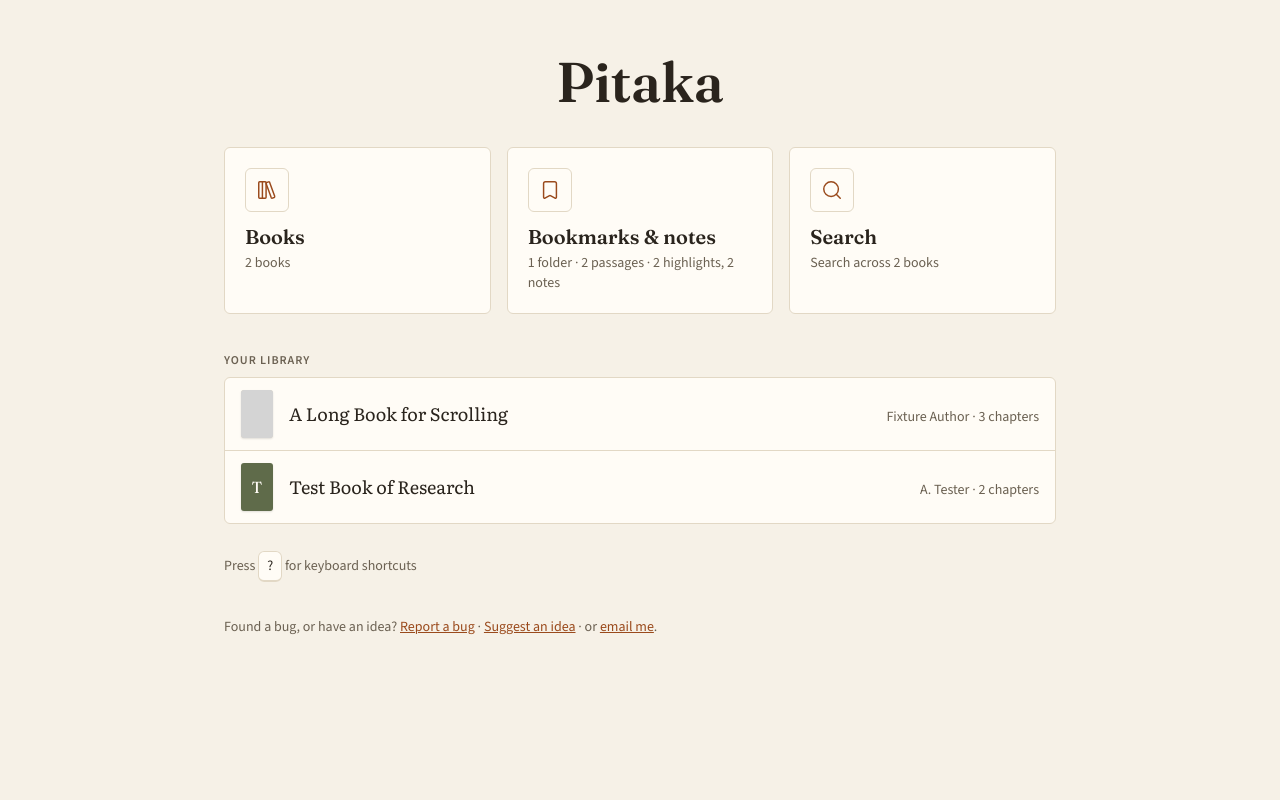
Test: highlights in the reader › recolours a highlight from its popover
Click the button "Books 2 books": (267, 190) [224, 147, 491, 314]
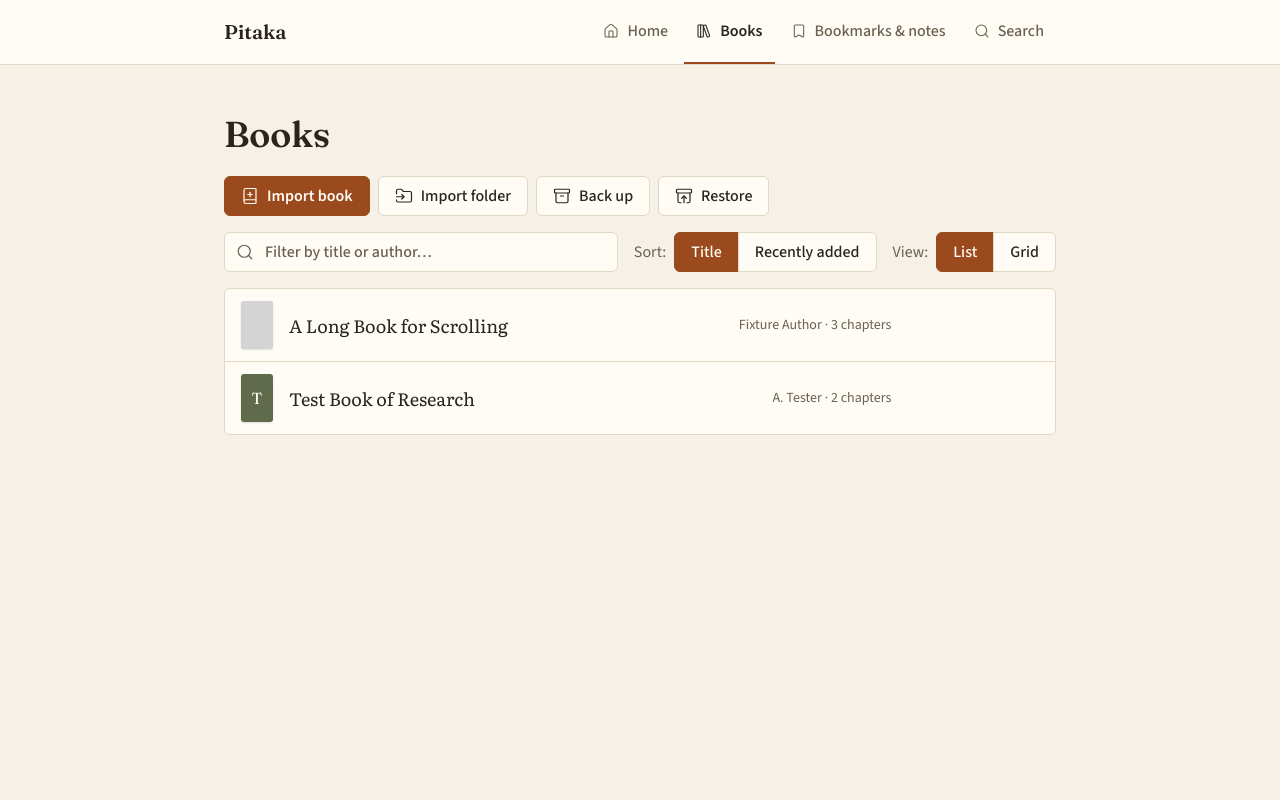
Now the heading "Books" is shown, box [224, 112, 330, 156]
Click the text "A Long Book for Scrolling": (399, 325) [289, 312, 508, 339]
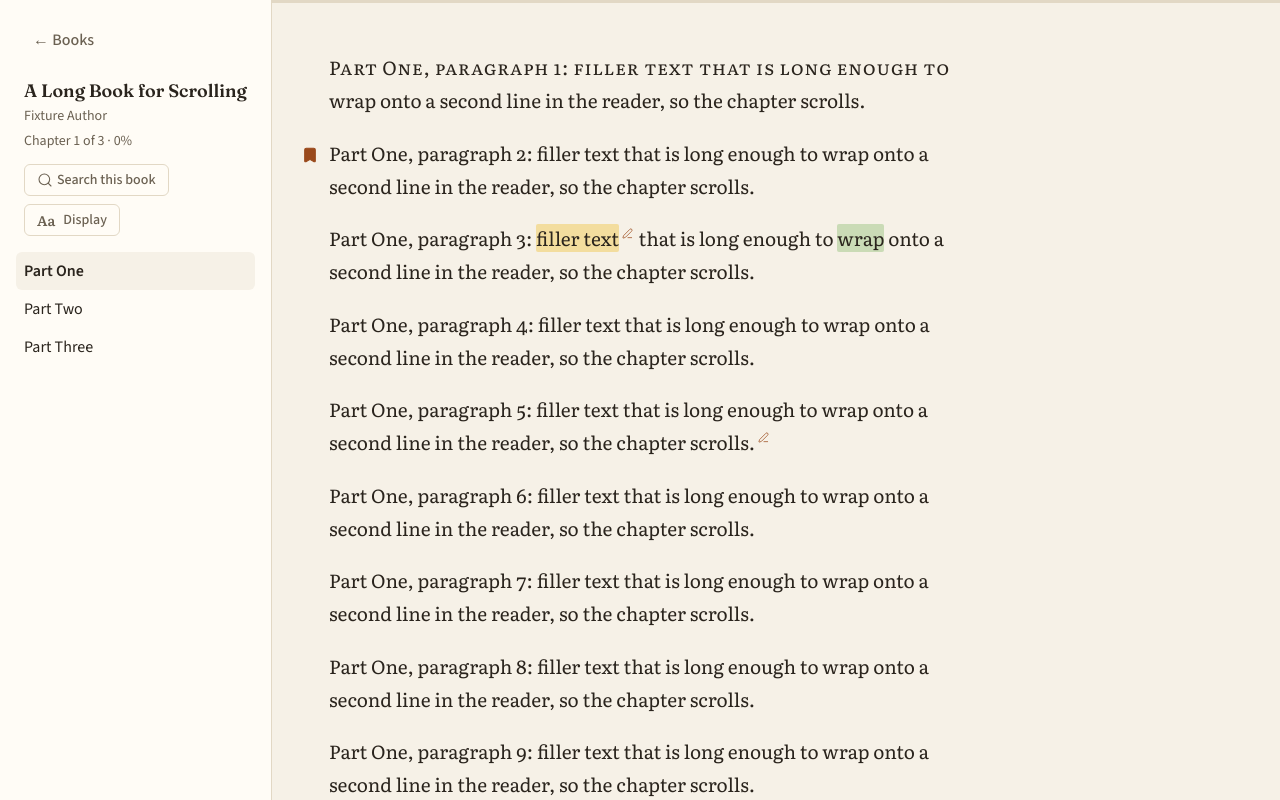
Now the text "Part One, paragraph 1:" is shown, box [329, 53, 950, 114]
Click the text with class "hl-green": (861, 238) [837, 224, 884, 252]
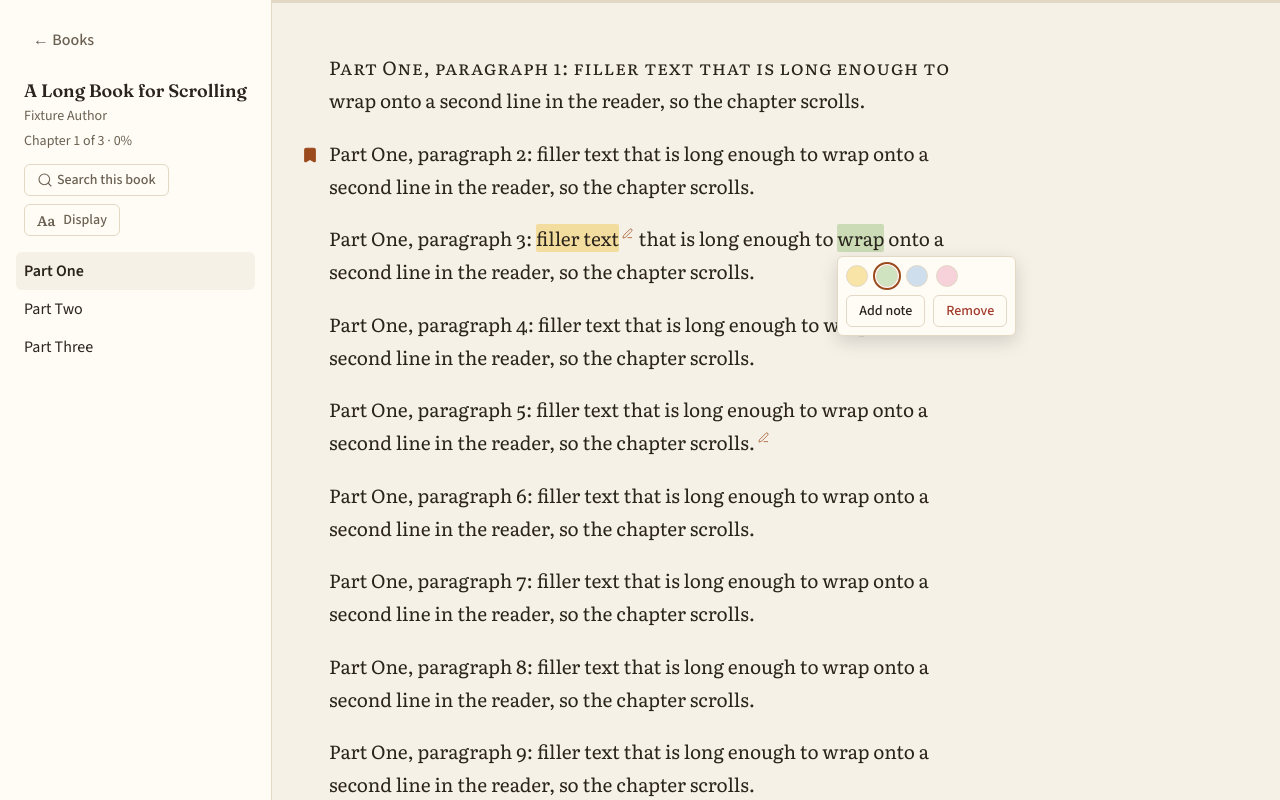
Click the button named "Pink": (947, 276) [936, 265, 958, 287]
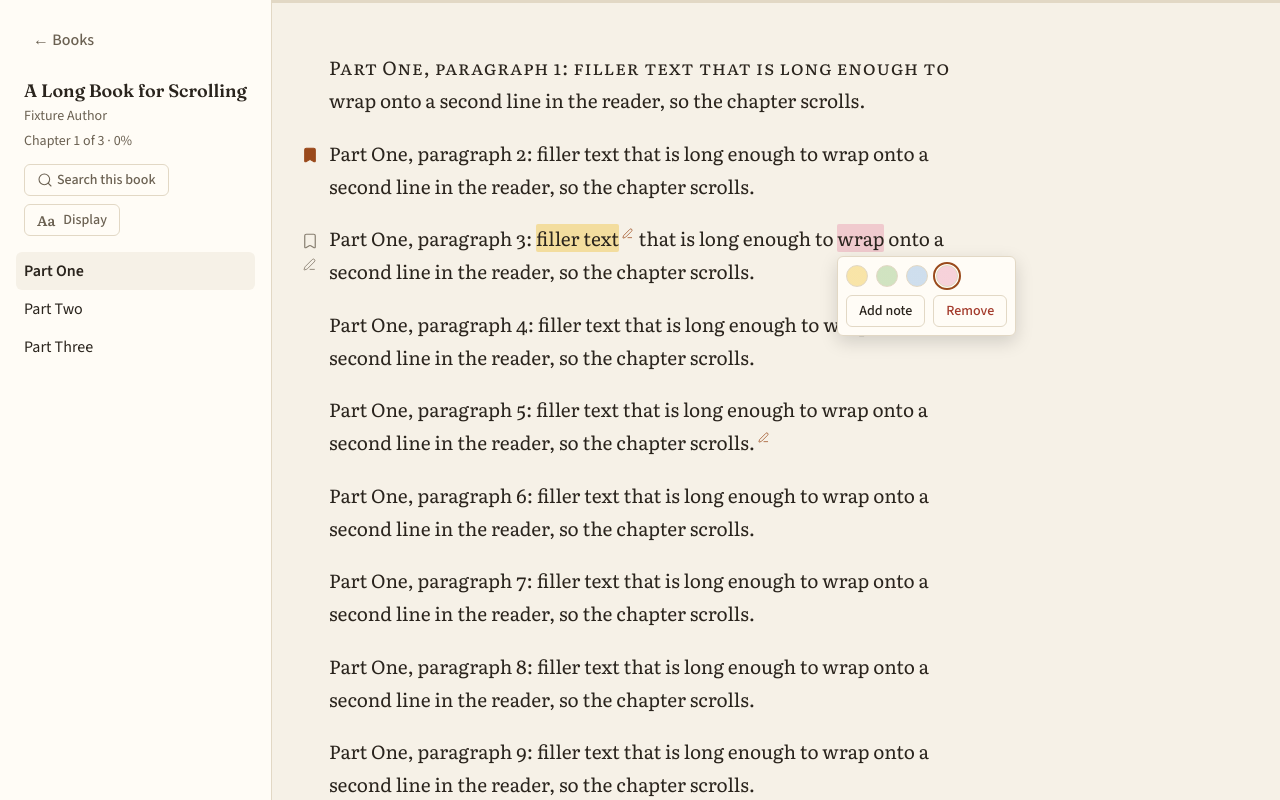
Now the text "wrap" is shown, box [837, 224, 884, 252]
Press Escape
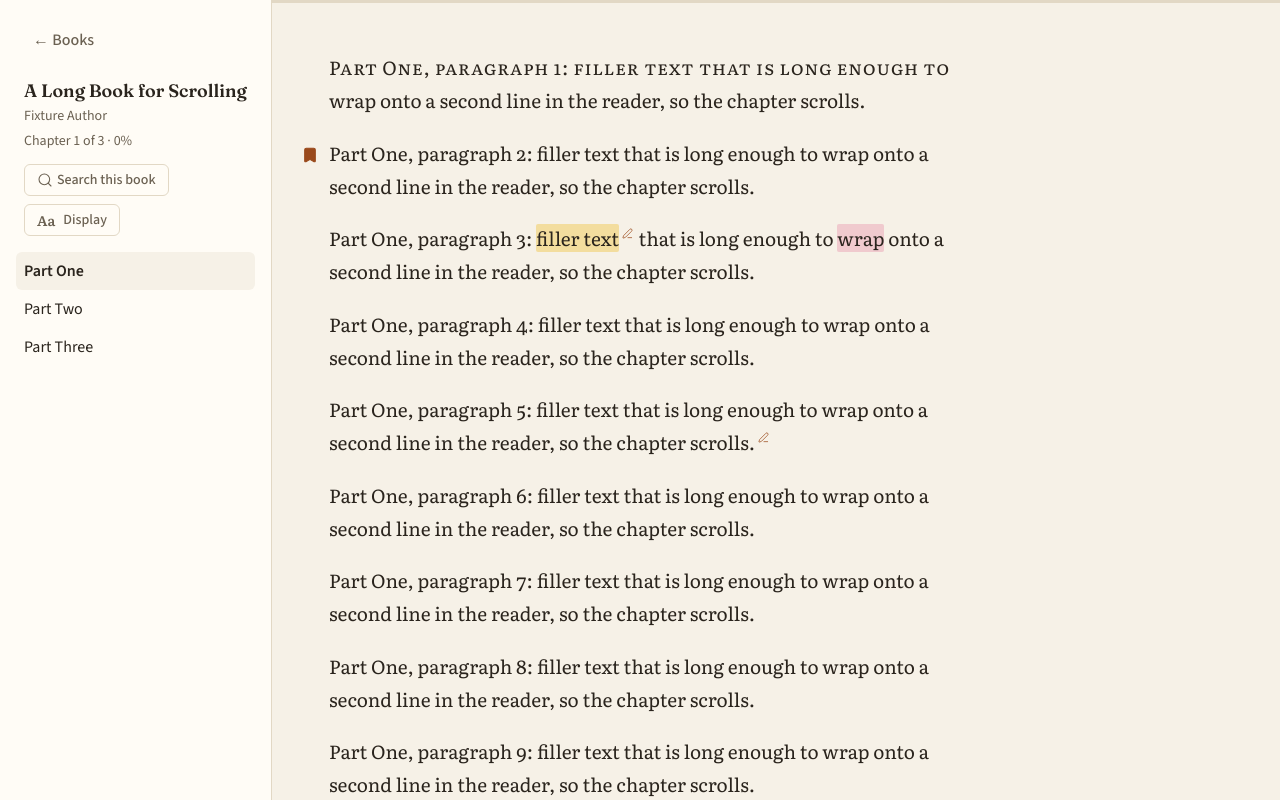
Now the dialog "Highlight" is gone
